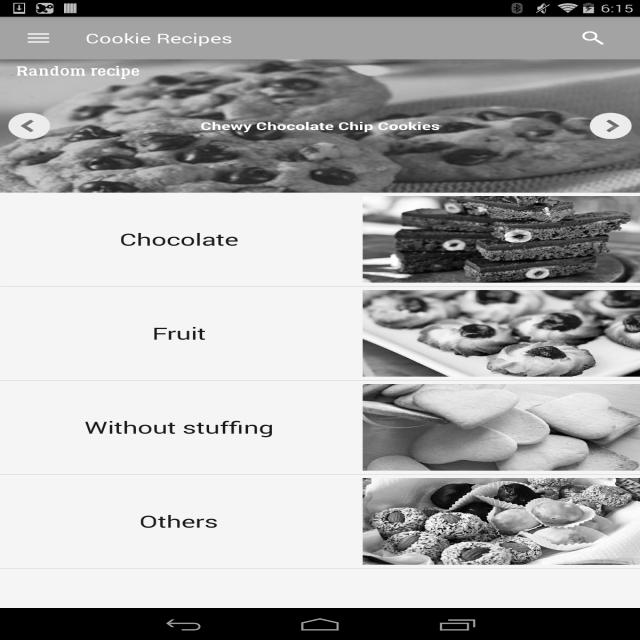ImageButton: (9, 17, 68, 59)
ImageView: (0, 59, 640, 193), (362, 196, 640, 282), (362, 290, 640, 376), (362, 384, 640, 470), (362, 478, 640, 564), (0, 83, 59, 169), (581, 83, 640, 169), (580, 30, 606, 46)
TextView: (0, 59, 640, 193), (0, 192, 357, 286), (0, 286, 357, 380), (0, 380, 357, 474), (0, 474, 357, 568), (86, 29, 232, 47), (16, 63, 140, 80)
